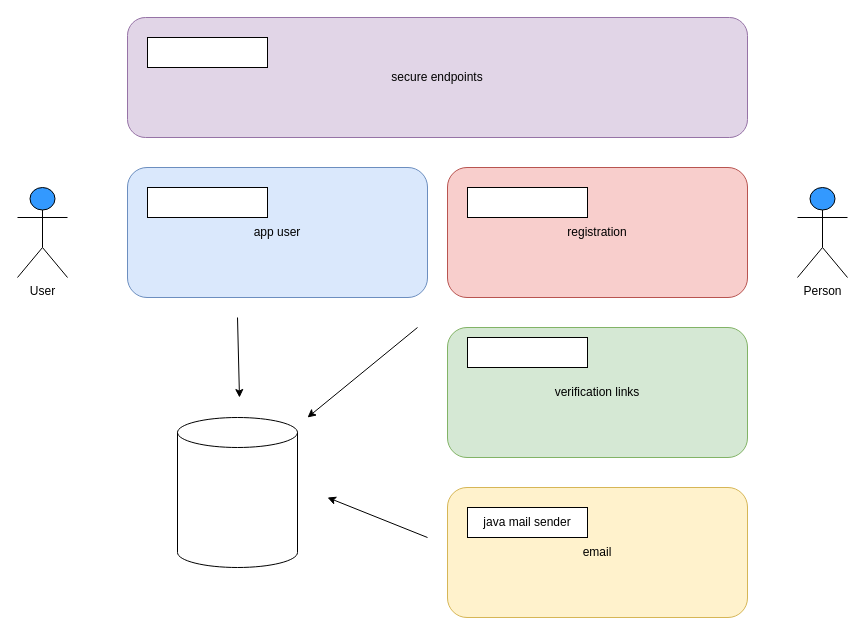
Some shapes in this 865 by 635 pixel diagram are drawn without their labels. Each missing label, with the centre of its shape:
"15 minutes expiration" belongs at (527,352).
"roles: admin, user" belongs at (207,202).
"spring security" belongs at (207,52).
"user registration" belongs at (527,202).
